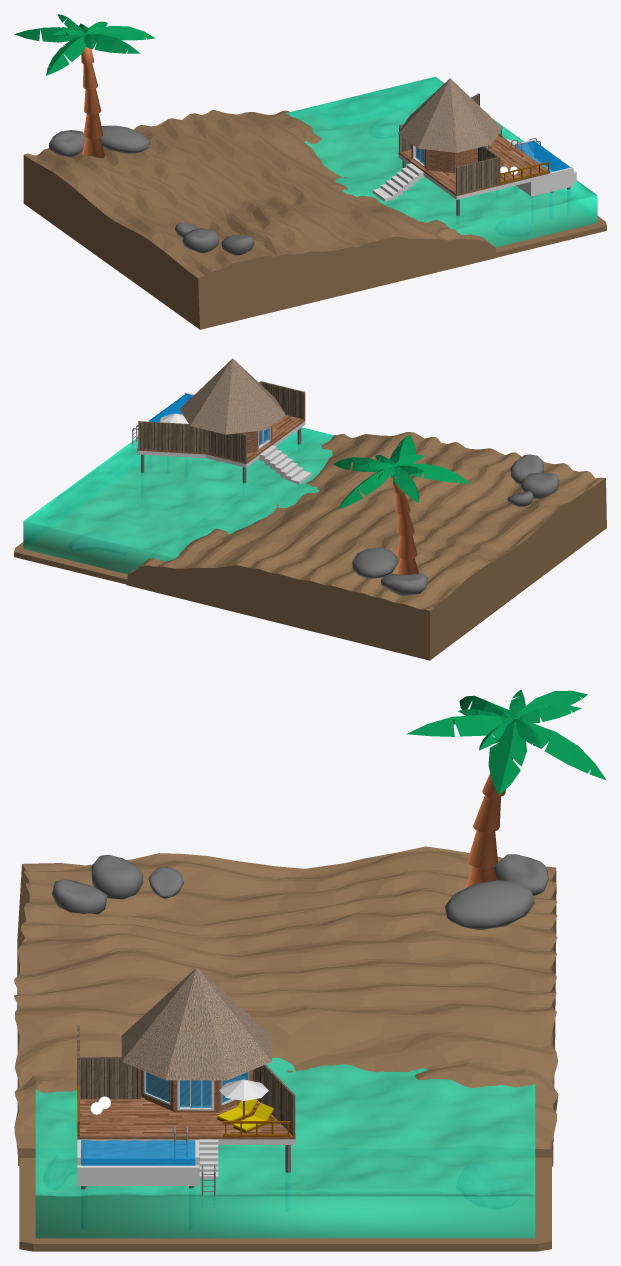
Rendered from maldive-mini.gltf.
3 renders of one model, top to bottom at view 1: azimuth 30°, elevation 25°; view 2: azimuth 150°, elevation 25°; view 3: azimuth 270°, elevation 25°, orthographic. The views are drawn at different scales.
Parts seen in each view (by area): view 1: BeachBase, SeaWater, UnderwaterBase, Cone, HutMainFloor, CoconutTree, Cube.003, Cube.025, Stone4, HutBodyCylinder, Stairs.001, Stone1.001 (+10 smaller); view 2: BeachBase, SeaWater, UnderwaterBase, Cone, Cube, CoconutTree, Stone4, Stairs.001, Cube.001, HutMainFloor, Cube.003, Stone7 (+9 smaller); view 3: BeachBase, SeaWater, UnderwaterBase, Cone, HutMainFloor, Cube.025, Stone4, PoolWater, Cube.005, CoconutTree, Stone7, Stone1 (+15 smaller).
Boxes of the visible parts, x1,y1,x2,y2 form: BeachBase: [23, 109, 496, 329]; SeaWater: [286, 76, 597, 247]; UnderwaterBase: [338, 109, 606, 257]; Cone: [398, 78, 502, 152]; HutMainFloor: [398, 135, 550, 196]; CoconutTree: [81, 47, 104, 158]; Cube.003: [456, 157, 498, 194]; Cube.025: [513, 139, 576, 196]; Stone4: [100, 125, 149, 153]; HutBodyCylinder: [411, 144, 488, 172]; Stairs.001: [372, 163, 423, 201]; Stone1.001: [49, 130, 86, 157]; BeachBase: [126, 432, 606, 660]; SeaWater: [23, 427, 333, 574]; UnderwaterBase: [14, 451, 289, 584]; Cone: [179, 358, 285, 434]; Cube: [138, 421, 208, 452]; CoconutTree: [393, 477, 418, 574]; Stone4: [352, 547, 397, 578]; Stairs.001: [259, 445, 311, 484]; Cube.001: [208, 430, 246, 461]; HutMainFloor: [137, 415, 305, 463]; Cube.003: [262, 381, 305, 419]; Stone7: [68, 531, 129, 554]; BeachBase: [14, 846, 558, 1166]; SeaWater: [35, 1057, 535, 1238]; UnderwaterBase: [19, 1157, 551, 1251]; Cone: [121, 967, 271, 1080]; HutMainFloor: [77, 1070, 295, 1139]; Cube.025: [77, 1140, 199, 1185]; Stone4: [444, 880, 534, 929]; PoolWater: [81, 1140, 195, 1165]; Cube.005: [77, 1057, 140, 1098]; CoconutTree: [465, 742, 512, 888]; Stone7: [456, 1162, 518, 1208]; Stone1: [91, 854, 143, 899].
Size of the model in its own units: 11.99 by 4.79 by 9.49.
16 materials, 3 textured.
